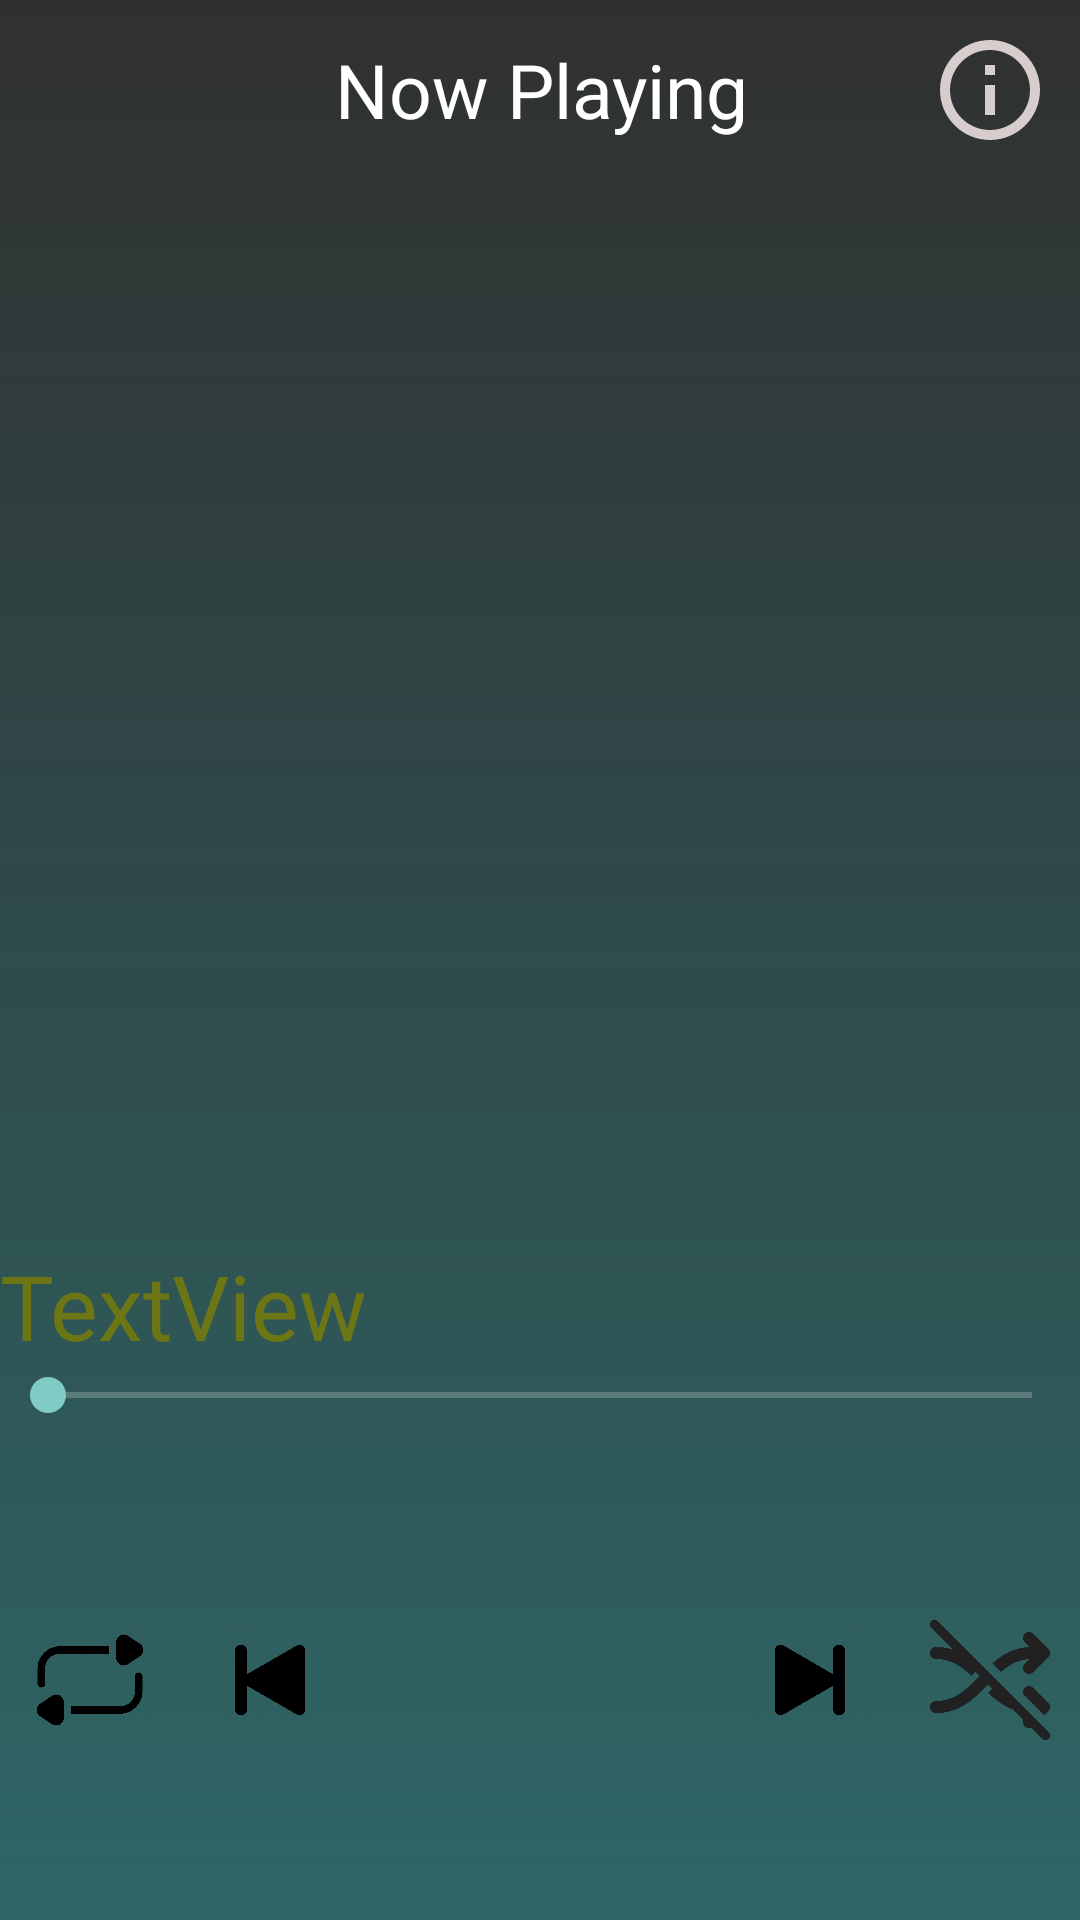

Where icons sit on this 1080×1920 app screen, as (x1, y1, x2, y2):
loop list: (37, 1634, 143, 1726)
next: (775, 1645, 845, 1715)
previous: (235, 1645, 305, 1715)
shuffle off: (930, 1620, 1050, 1740)
to show the meta data of a file: (940, 40, 1040, 140)
